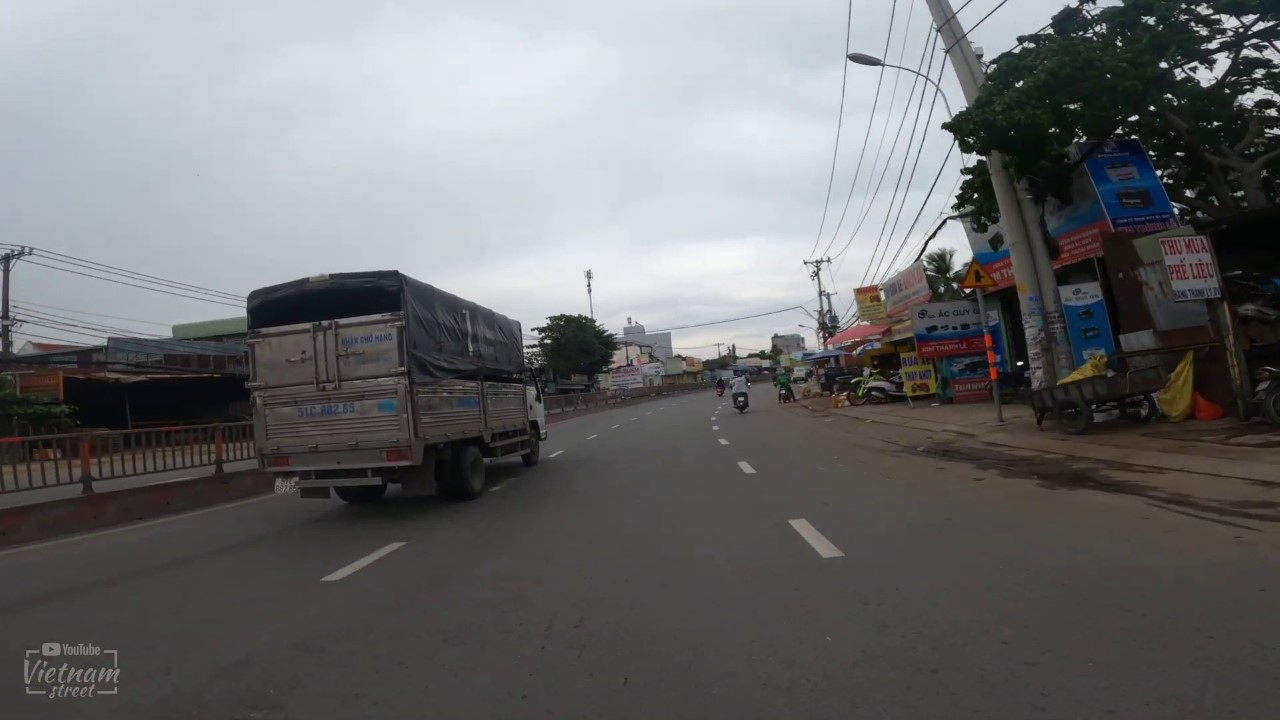giao_khong_uu_tien_phai: (959, 257, 999, 289)
